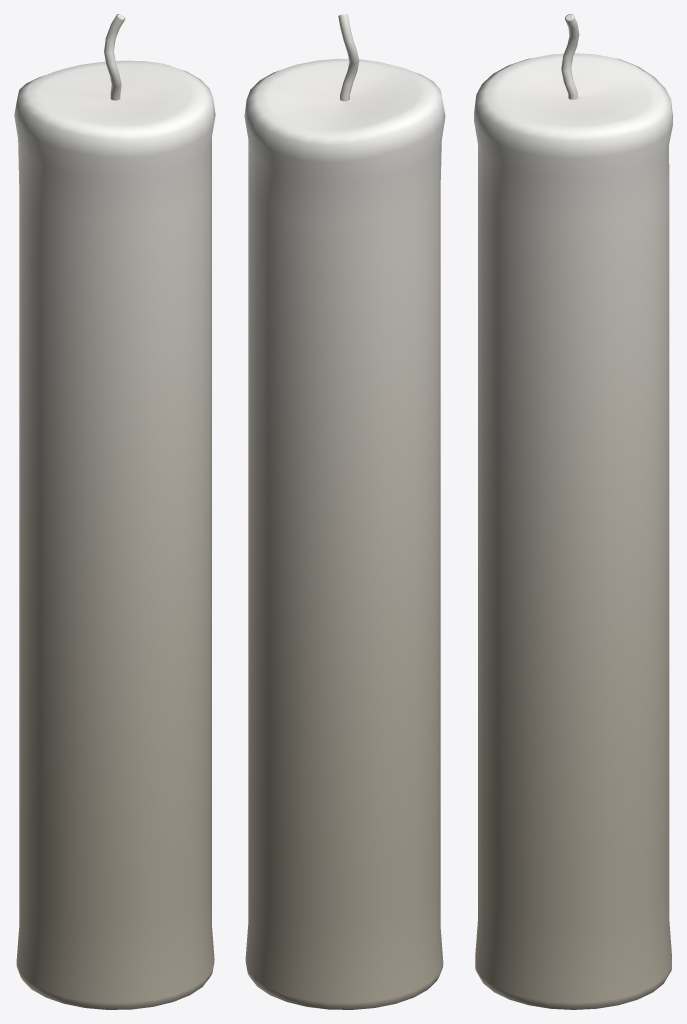
File: Candle.fbx
3 views of the same model, side by side, from view 1: azimuth 30°, elevation 25°; view 2: azimuth 150°, elevation 25°; view 3: azimuth 270°, elevation 25° (orthographic).
Visible parts, largest first — view 1: Candle; view 2: Candle; view 3: Candle.
Part boxes in pixels (x1,y1,x2,y2): Candle: [14, 14, 215, 1009]; Candle: [244, 14, 445, 1009]; Candle: [474, 14, 672, 1009].
Size of the model in its own units: 10.46 by 54.64 by 10.3.
1 material, 1 textured.
